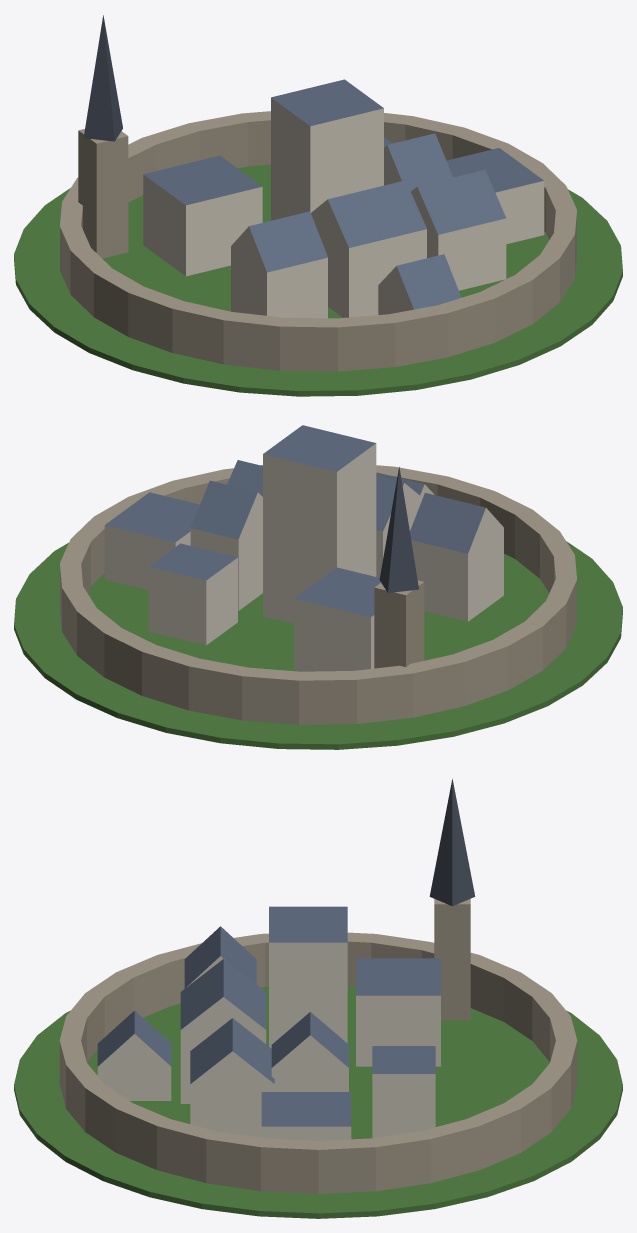
Rendered from derry.glb.
The picture shows the model from 3 angles, top to bottom: view 1: azimuth 30°, elevation 25°; view 2: azimuth 150°, elevation 25°; view 3: azimuth 270°, elevation 25°; orthographic projection.
Bounding box in the file's own units: 2 × 0.87 × 2.
